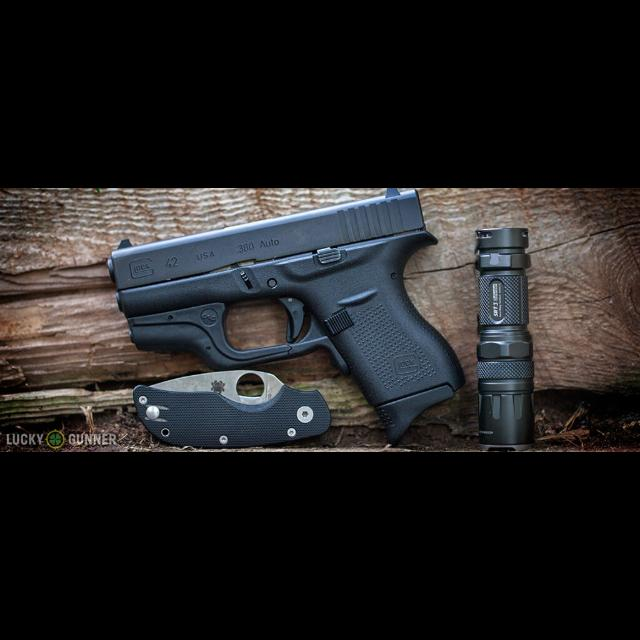handgun: (102, 188, 468, 452)
